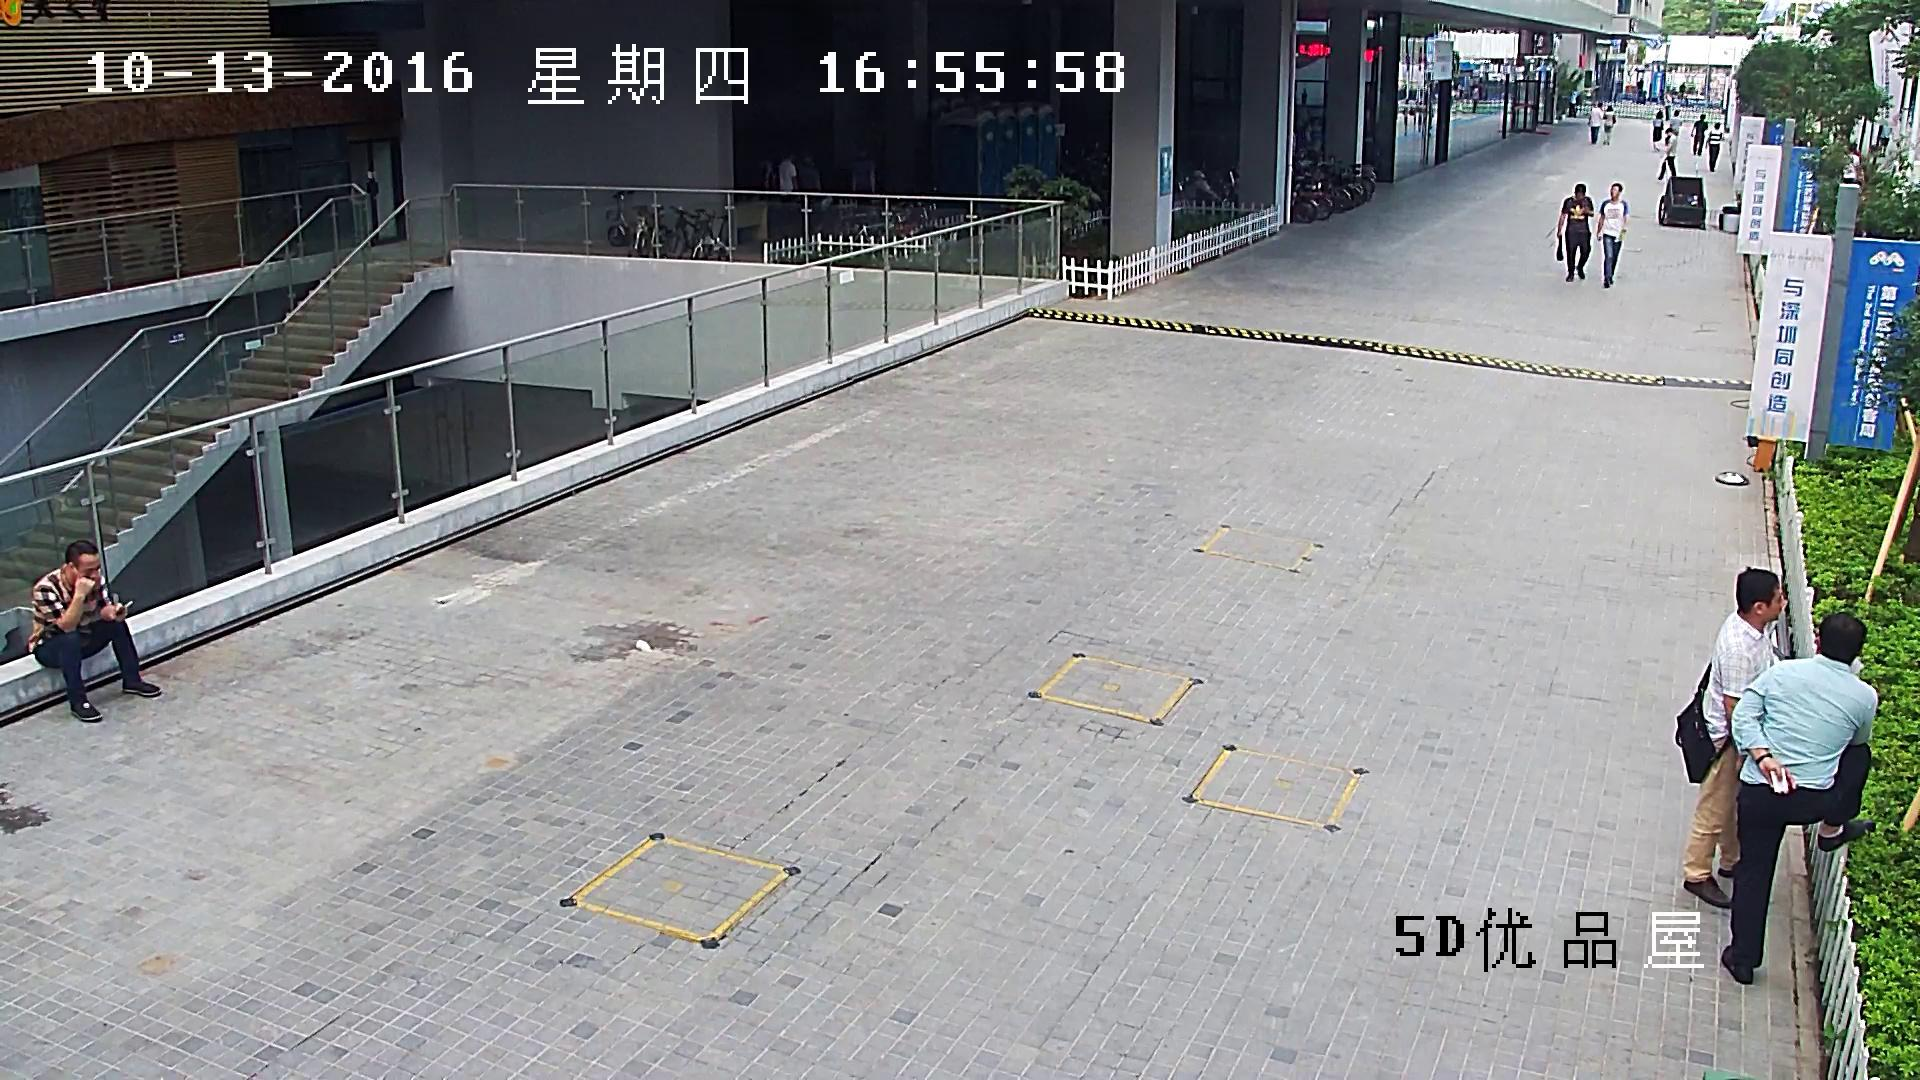person: (1721, 611, 1879, 986), (1674, 565, 1785, 910), (25, 538, 162, 722), (1556, 182, 1594, 283), (1595, 182, 1631, 289), (850, 146, 876, 194), (1656, 127, 1677, 181), (1704, 121, 1725, 172), (796, 151, 823, 191), (1841, 141, 1865, 185), (777, 149, 799, 191), (1585, 102, 1603, 145), (1689, 113, 1708, 156), (1602, 104, 1617, 146), (1652, 109, 1664, 153), (1669, 108, 1682, 137), (1878, 123, 1889, 157), (1470, 84, 1481, 113)
